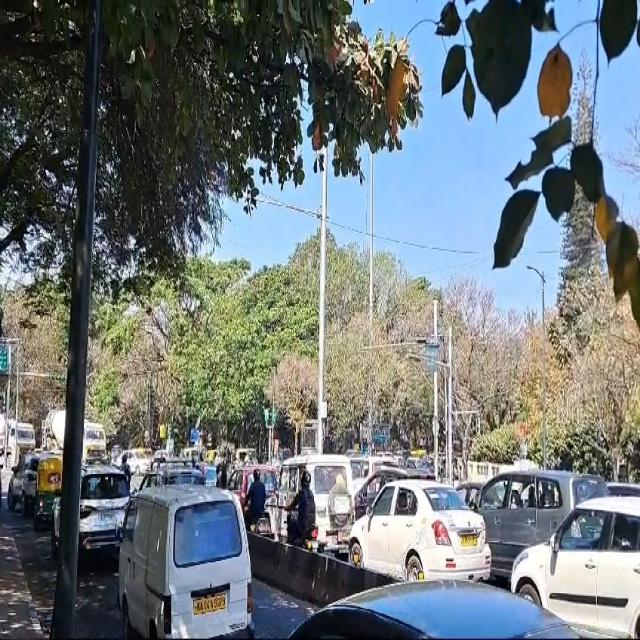cars: (118, 486, 254, 640), (514, 496, 640, 640), (349, 477, 492, 591), (471, 474, 606, 580), (264, 457, 357, 556)
